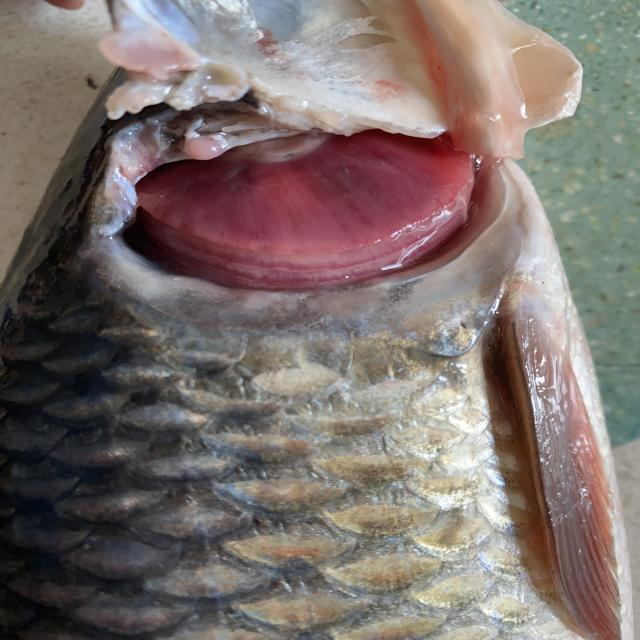Fresh: (106, 121, 513, 289)
